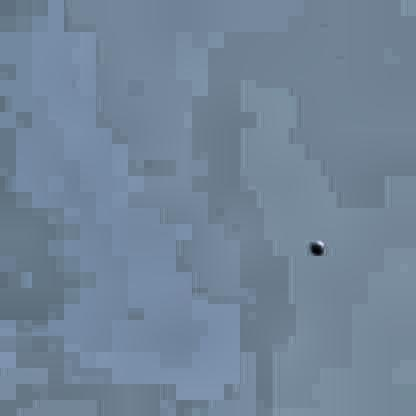golfball: (305, 237, 323, 255)
